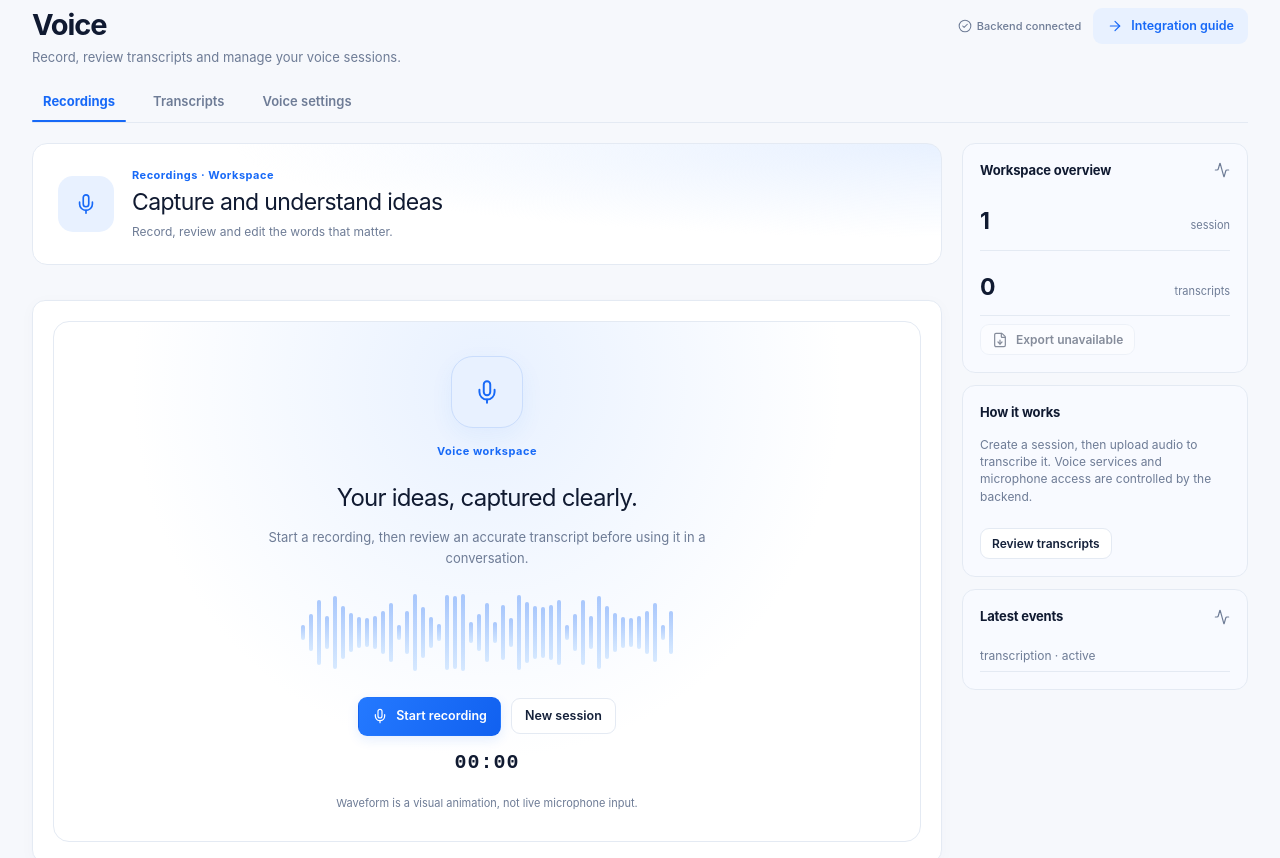
Voice workspace backend integration › records only after microphone permission and uploads the stopped recording to local STT
Step 1. Click the button "Start recording" → [430, 716], box x1=358 y1=697 x2=501 y2=736
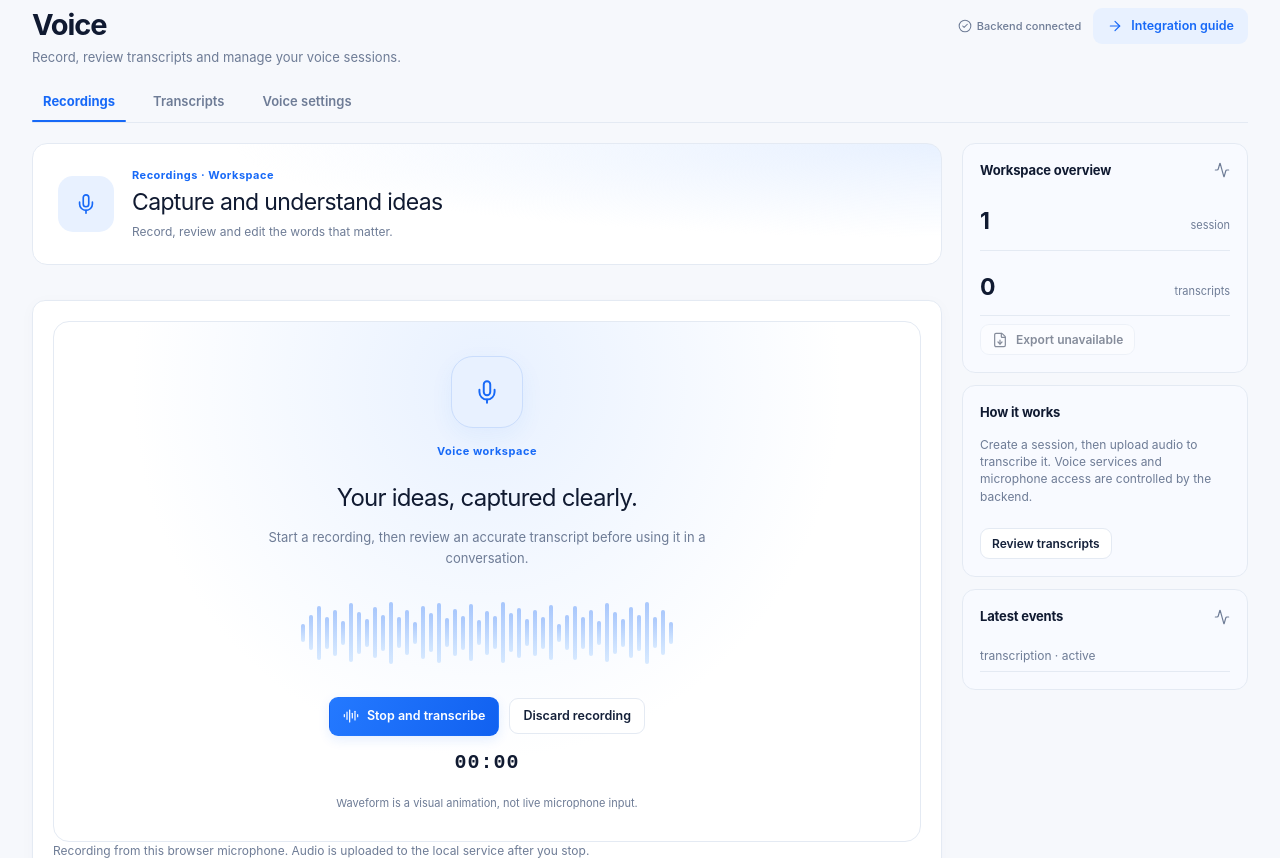
expect the text "Recording from this browser microphone" is shown: met, box x1=53 y1=843 x2=589 y2=857
expect the button "Stop and transcribe" is shown: met
Step 2. Click the button "Stop and transcribe" → [414, 716], box x1=329 y1=697 x2=500 y2=736
(page scrolled)
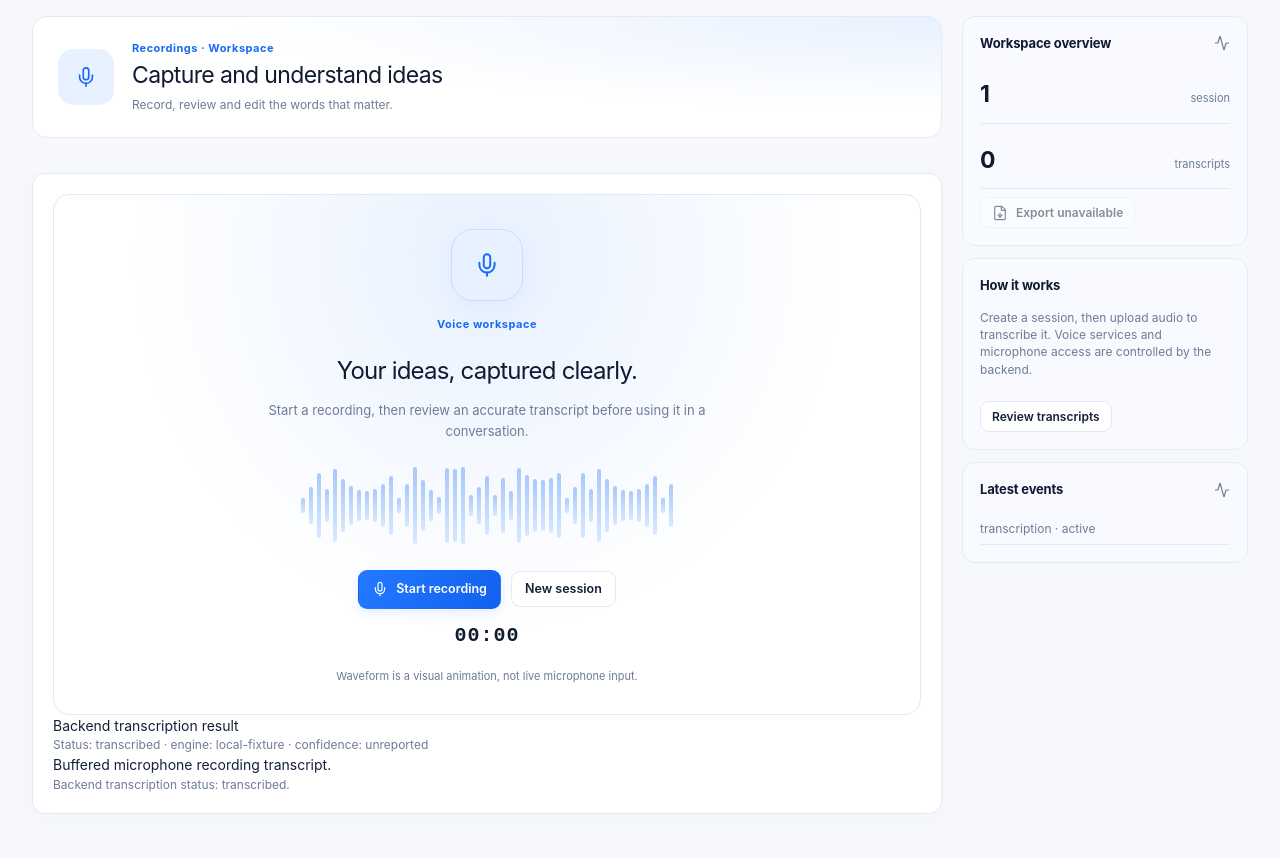
expect the text "Buffered microphone recording transcript." is shown: met, box x1=53 y1=756 x2=331 y2=773
expect the text "Backend transcription status: transcribed." is shown: met, box x1=53 y1=777 x2=290 y2=792
